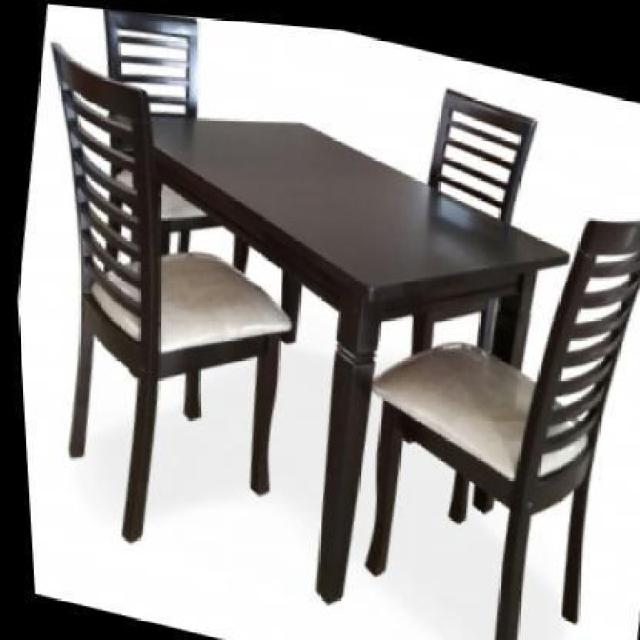tables: (106, 112, 571, 605)
